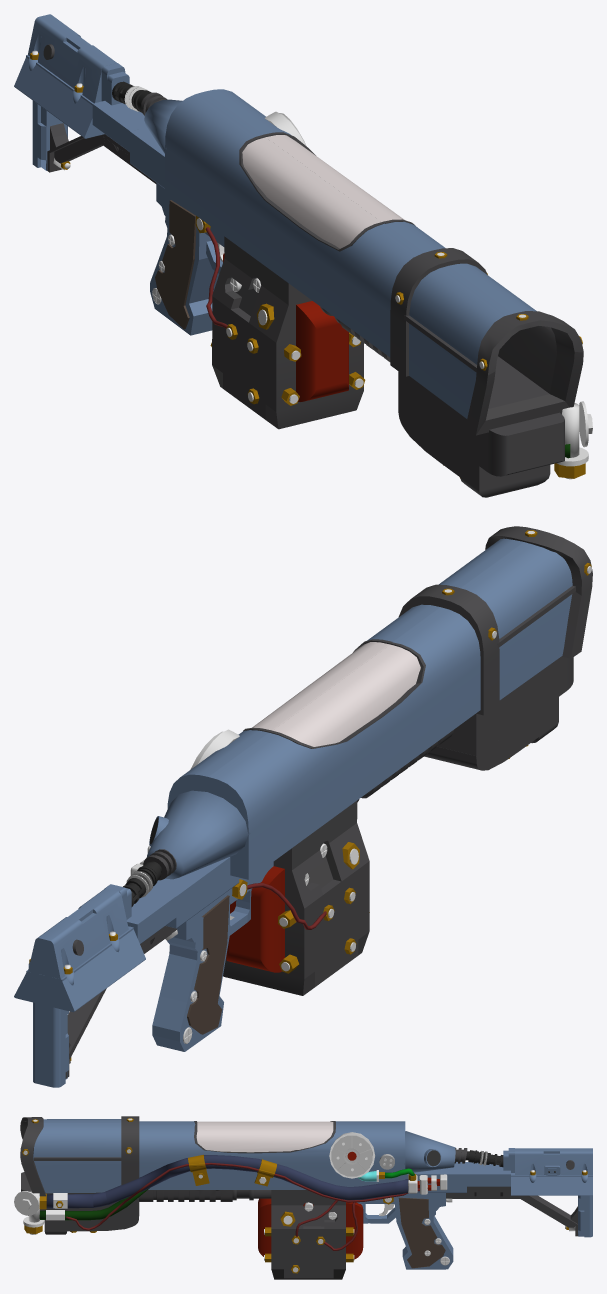
Rendered from GUN4.fbx.
3 renders of one model, top to bottom at view 1: azimuth 30°, elevation 25°; view 2: azimuth 150°, elevation 25°; view 3: azimuth 270°, elevation 25°, orthographic. The views are drawn at different scales.
Visible parts, largest first — view 1: Cube.021, Cube.018, Cube.024, Cube.022, Cube.006, Cube.030, Cube.019, Cube, Cube.034, Cube.023, Cube.004, Cube.014 (+9 smaller); view 2: Cube.021, Cube.018, Cube.022, Cube.006, Cone, Cube, Cube.030, Cube.014, Cube.004, Cube.019, Cube.023, Cube.024 (+7 smaller); view 3: Cube.021, Cube.018, Cube.022, Cylinder.012, Cube.006, Cube.034, Cube, Cube.004, Cube.019, Cone, Cylinder.010, Cube.014 (+25 smaller).
Boxes of the visible parts, bbox=[...] form: Cube.021: bbox=[165, 89, 445, 357]; Cube.018: bbox=[212, 236, 363, 429]; Cube.024: bbox=[465, 311, 583, 435]; Cube.022: bbox=[409, 263, 536, 418]; Cube.006: bbox=[242, 135, 404, 248]; Cube.030: bbox=[398, 371, 564, 476]; Cube.019: bbox=[223, 253, 348, 401]; Cube: bbox=[28, 14, 116, 103]; Cube.034: bbox=[155, 200, 196, 329]; Cube.023: bbox=[390, 248, 487, 376]; Cube.004: bbox=[14, 55, 104, 138]; Cube.014: bbox=[150, 195, 219, 335]; Cube.021: bbox=[167, 604, 480, 879]; Cube.018: bbox=[223, 800, 369, 995]; Cube.022: bbox=[439, 538, 572, 699]; Cube.006: bbox=[252, 642, 420, 746]; Cone: bbox=[146, 790, 250, 879]; Cube: bbox=[28, 888, 128, 979]; Cube.030: bbox=[437, 656, 573, 755]; Cube.014: bbox=[152, 889, 230, 1051]; Cube.004: bbox=[14, 926, 145, 1012]; Cube.019: bbox=[226, 866, 284, 972]; Cube.023: bbox=[398, 584, 499, 715]; Cube.024: bbox=[485, 526, 592, 658]; Cube.021: bbox=[139, 1121, 405, 1189]; Cube.018: bbox=[271, 1190, 345, 1279]; Cube.022: bbox=[33, 1119, 121, 1193]; Cylinder.012: bbox=[46, 1155, 408, 1208]; Cube.006: bbox=[196, 1121, 333, 1152]; Cube.034: bbox=[398, 1197, 445, 1268]; Cube: bbox=[515, 1148, 592, 1174]; Cube.004: bbox=[511, 1165, 592, 1195]; Cube.019: bbox=[258, 1198, 363, 1259]; Cone: bbox=[404, 1131, 455, 1172]; Cylinder.010: bbox=[331, 1135, 372, 1176]; Cube.014: bbox=[394, 1193, 453, 1269].
Bounding box in the file's own units: 16.51 × 35.88 × 126.
